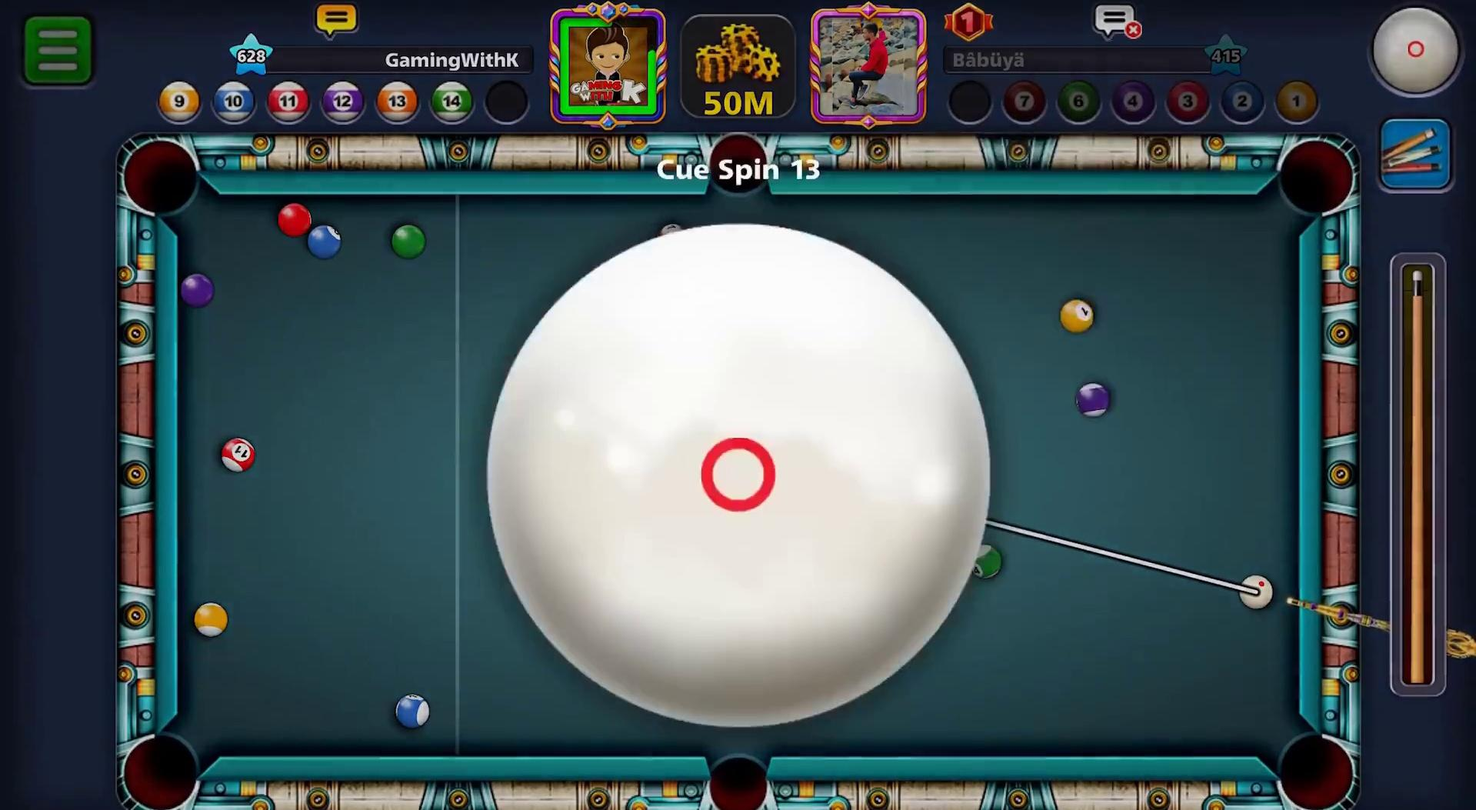Ball: (1055, 291, 1102, 342), (296, 222, 346, 268), (274, 192, 319, 242), (964, 538, 1010, 583), (1071, 380, 1117, 425), (177, 266, 217, 312), (192, 601, 228, 638), (218, 434, 254, 471), (393, 693, 428, 731), (388, 223, 425, 258)
Force: (1384, 252, 1453, 698)
Guideline: (980, 513, 1257, 604)
Hole: (111, 124, 221, 232), (1256, 709, 1366, 809), (104, 719, 220, 809), (1270, 127, 1361, 228), (691, 124, 786, 213), (689, 739, 785, 809)
Play_Area: (181, 195, 1294, 763)
Spin: (478, 220, 1012, 741), (1352, 0, 1475, 116)
White: (1235, 568, 1282, 616)
